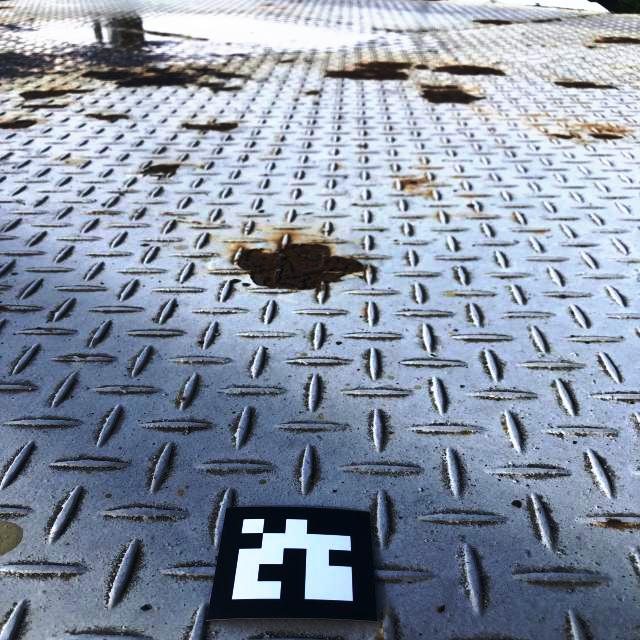Corrosion: (0, 44, 174, 81), (238, 244, 365, 289), (82, 66, 246, 91), (326, 61, 411, 79), (422, 85, 483, 102), (19, 89, 91, 100), (432, 65, 506, 75), (183, 122, 240, 132), (553, 82, 622, 90), (140, 163, 182, 175), (595, 517, 631, 528), (0, 120, 36, 130), (593, 37, 640, 44), (402, 176, 429, 188), (87, 114, 131, 121), (549, 132, 577, 140), (5, 23, 24, 33), (590, 134, 626, 139), (474, 20, 514, 24), (416, 64, 429, 70), (307, 90, 320, 95)
